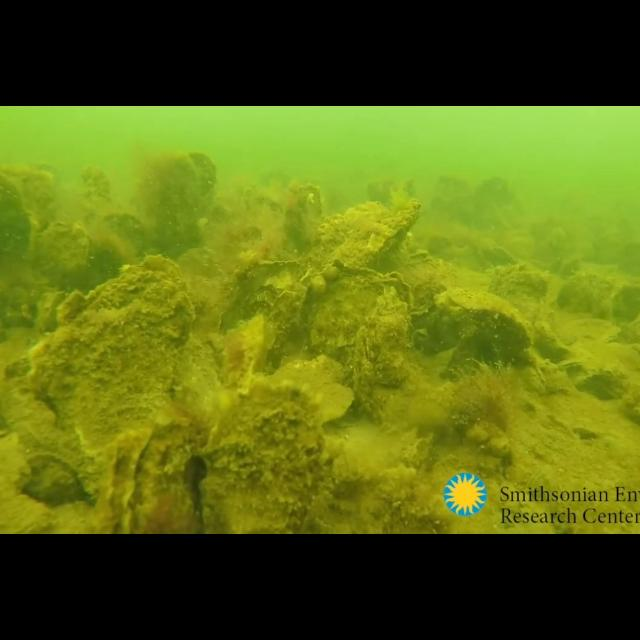Oyster-Closed: (27, 253, 200, 534), (199, 382, 327, 534), (296, 197, 422, 319), (298, 260, 412, 388), (352, 292, 418, 433), (220, 260, 304, 370), (130, 420, 206, 534), (154, 151, 216, 255), (435, 288, 533, 348), (490, 262, 550, 348), (34, 220, 90, 304), (92, 213, 152, 291), (286, 186, 322, 256)
